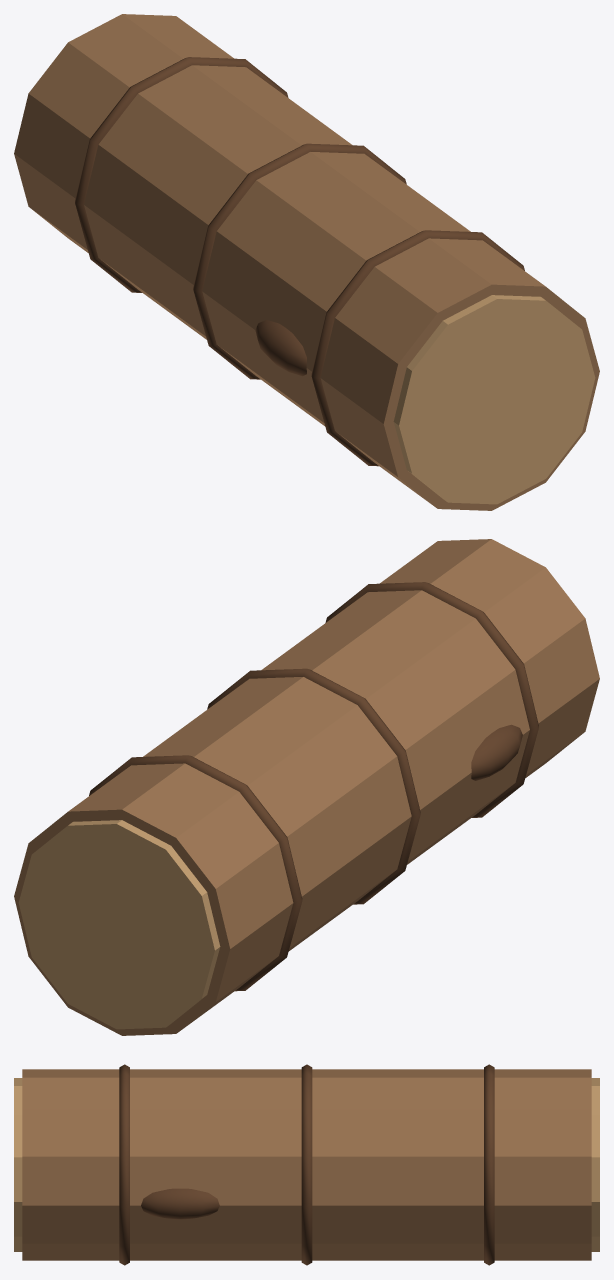
The model's file is Log_Straight.fbx.
3 views of the same model, one above another, from view 1: azimuth 30°, elevation 25°; view 2: azimuth 150°, elevation 25°; view 3: azimuth 270°, elevation 25° (orthographic). The views are drawn at different scales.
Parts seen in each view (by area): view 1: Log_Main, Cut_End, Bark_Ring.001, Bark_Ring, Bark_Ring.002, Bark_Knot.002; view 2: Log_Main, Cut_End.001, Bark_Ring.001, Bark_Ring.002, Bark_Ring, Bark_Knot.002; view 3: Log_Main, Bark_Ring.001, Bark_Ring, Bark_Ring.002, Bark_Knot, Cut_End, Cut_End.001.
Part boxes in pixels (x1,y1,x2,y2): Log_Main: [14, 14, 599, 510]; Cut_End: [393, 295, 595, 504]; Bark_Ring.001: [193, 143, 406, 379]; Bark_Ring: [311, 230, 524, 466]; Bark_Ring.002: [75, 57, 288, 292]; Bark_Knot.002: [255, 320, 306, 376]; Log_Main: [14, 539, 599, 1035]; Cut_End.001: [18, 820, 220, 1029]; Bark_Ring.001: [207, 668, 420, 904]; Bark_Ring.002: [89, 755, 302, 991]; Bark_Ring: [325, 582, 538, 817]; Bark_Knot.002: [471, 724, 522, 780]; Log_Main: [22, 1069, 591, 1260]; Bark_Ring.001: [301, 1064, 312, 1265]; Bark_Ring: [119, 1064, 129, 1265]; Bark_Ring.002: [484, 1064, 494, 1265]; Bark_Knot: [141, 1188, 219, 1219]; Cut_End: [14, 1078, 22, 1251]; Cut_End.001: [591, 1078, 599, 1251].
Size of the model in its own units: 84 by 79.8 by 232.
